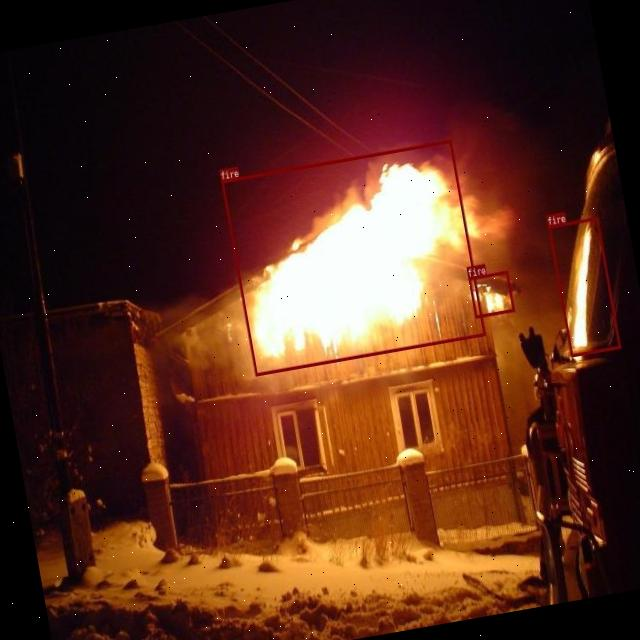fire: (220, 140, 485, 376), (547, 215, 620, 356), (468, 270, 514, 317)
